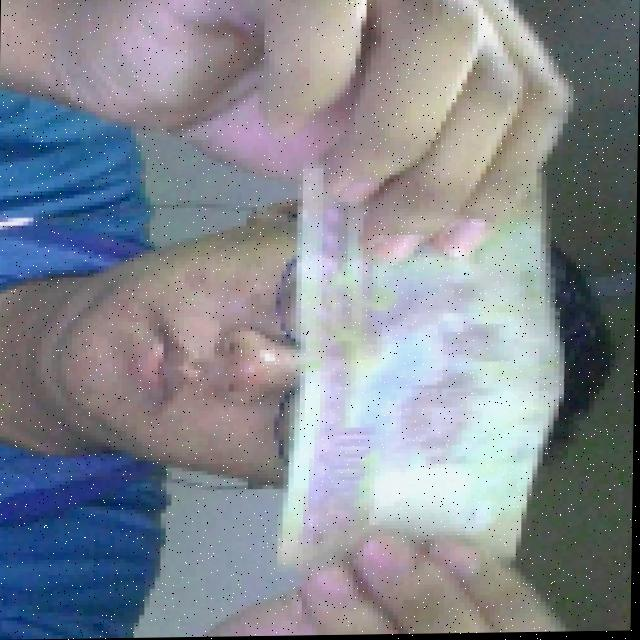10 000 VND: (272, 155, 577, 580)
